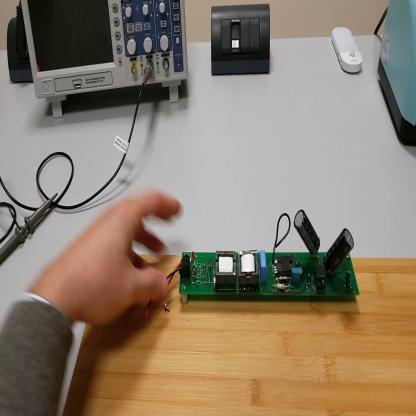hand: (66, 190, 179, 326)
high voltage board: (168, 203, 362, 300)
oscilloscope: (21, 1, 189, 119)
oscilloscope probe tip: (2, 188, 61, 270)
socket: (6, 20, 37, 86)
welder station: (378, 4, 416, 147)
working area: (63, 253, 416, 416)
